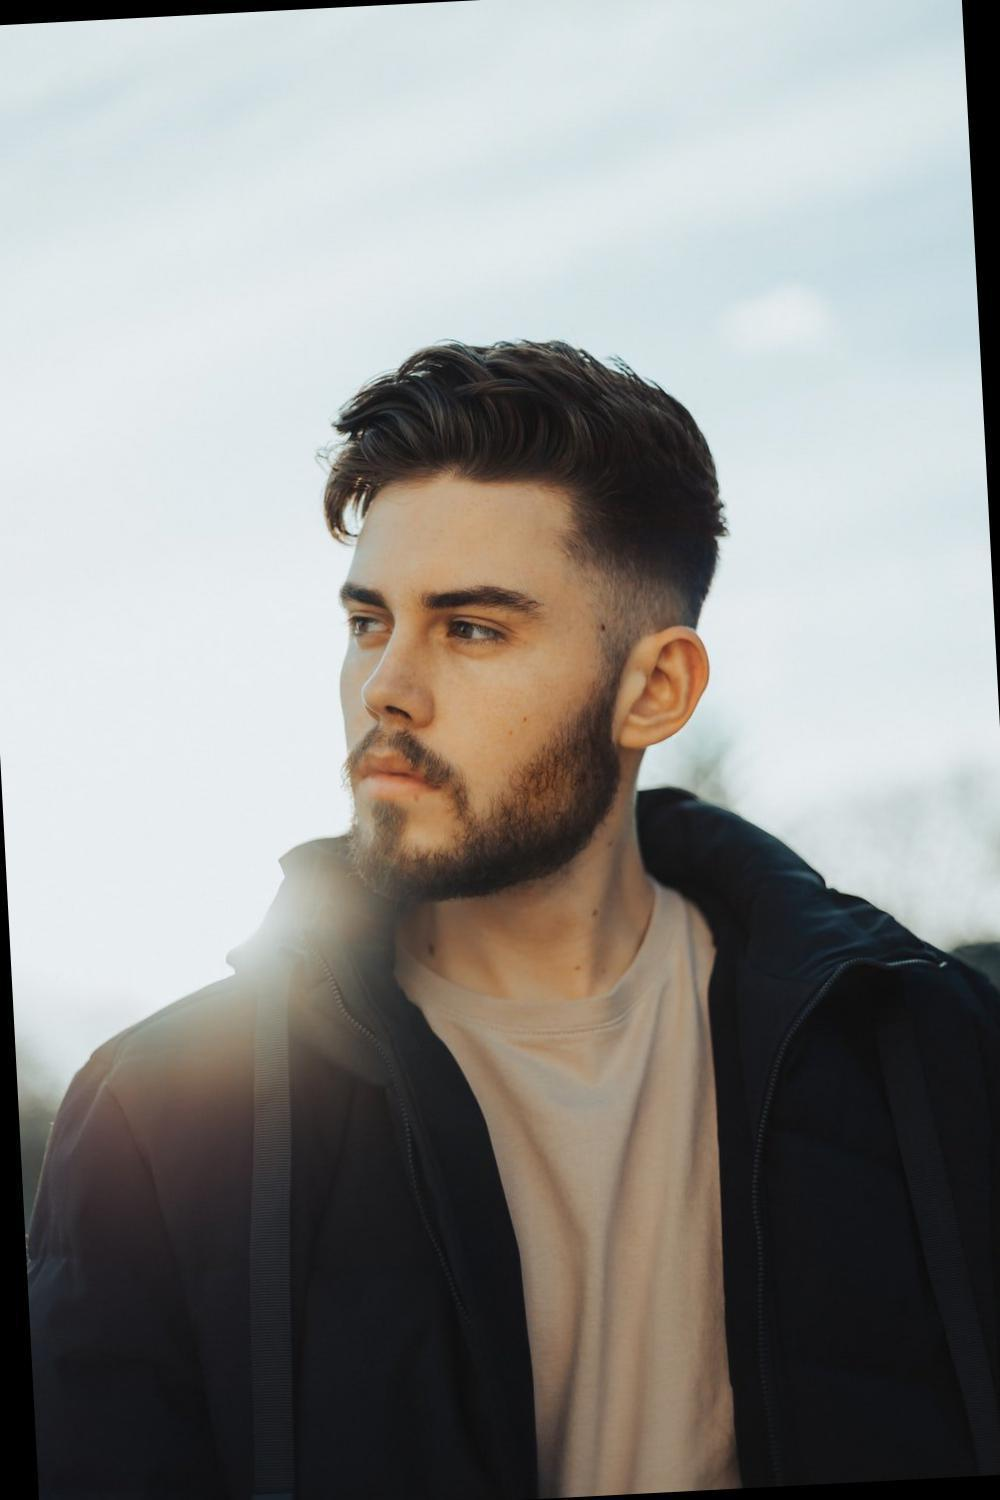Sober: (348, 491, 592, 849)
